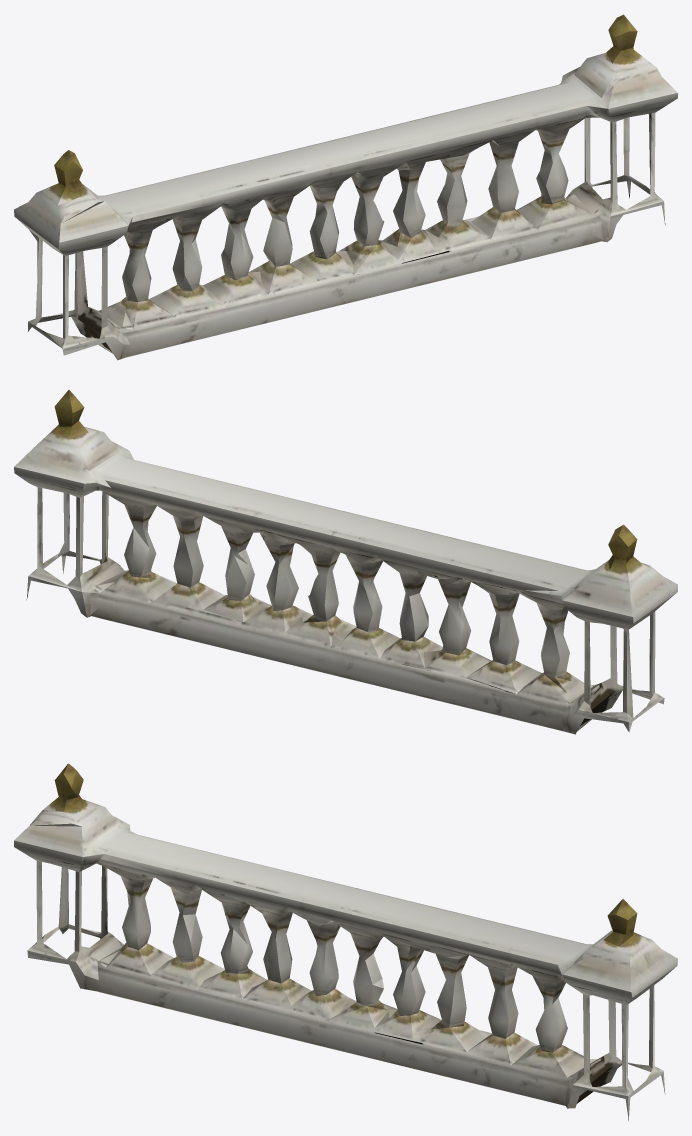
The model's file is town_balustrade_lod.glb.
3 renders of one model, top to bottom at view 1: azimuth 30°, elevation 25°; view 2: azimuth 150°, elevation 25°; view 3: azimuth 330°, elevation 25°, orthographic.
Parts seen in each view (by area): view 1: town_balustrade; view 2: town_balustrade; view 3: town_balustrade.
Part boxes in pixels (x1,y1,x2,y2): town_balustrade: (14,14,677,360); town_balustrade: (14,390,677,734); town_balustrade: (14,763,677,1120).
Size of the model in its own units: 3.65 by 1.19 by 0.4661.
1 material, 1 textured.
